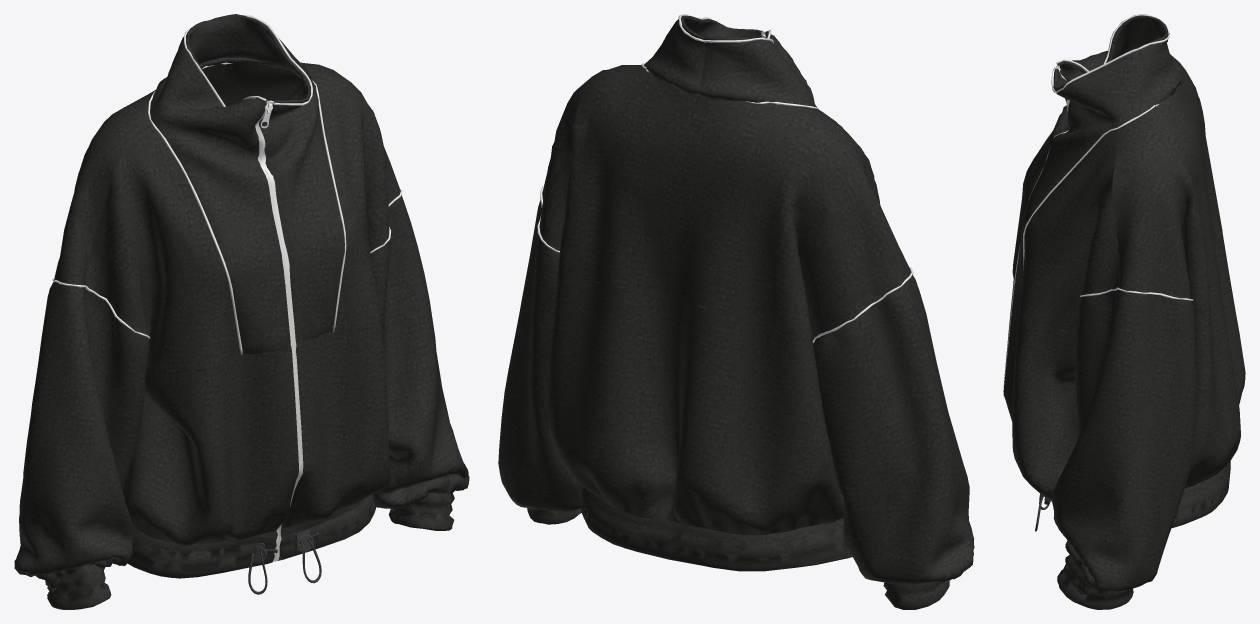
Rendered from utility-jacket.glb.
3 views of the same model, side by side, from view 1: azimuth 30°, elevation 25°; view 2: azimuth 150°, elevation 25°; view 3: azimuth 270°, elevation 25° (orthographic). The views are drawn at different scales.
Parts seen in each view (by area): view 1: utility-jacket_surface_4, utility-jacket_surface_0; view 2: utility-jacket_surface_4; view 3: utility-jacket_surface_4.
Part boxes in pixels (x1,y1,x2,y2): utility-jacket_surface_4: [14, 14, 469, 609]; utility-jacket_surface_0: [248, 530, 321, 594]; utility-jacket_surface_4: [498, 14, 974, 609]; utility-jacket_surface_4: [1003, 14, 1245, 609].
Bounding box in the file's own units: 1.95 × 2.2 × 0.9792.
3 materials, 1 textured.
